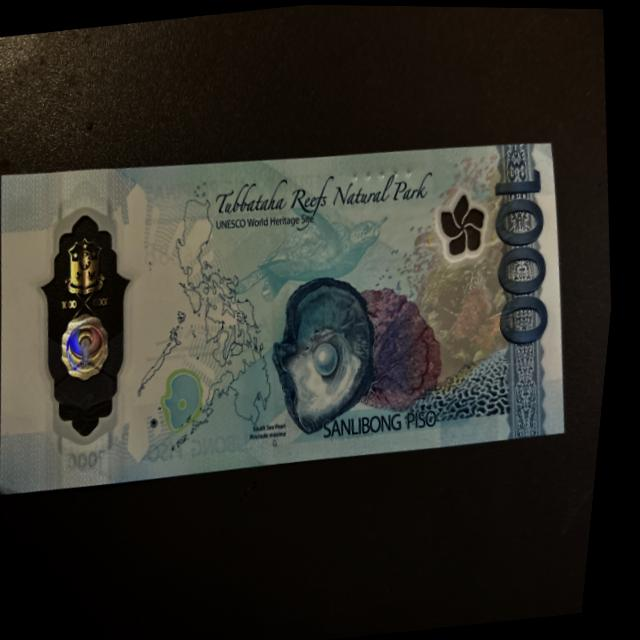clear_window: (19, 196, 173, 441)
sampaguita: (428, 186, 496, 265)
value: (483, 166, 571, 358)
